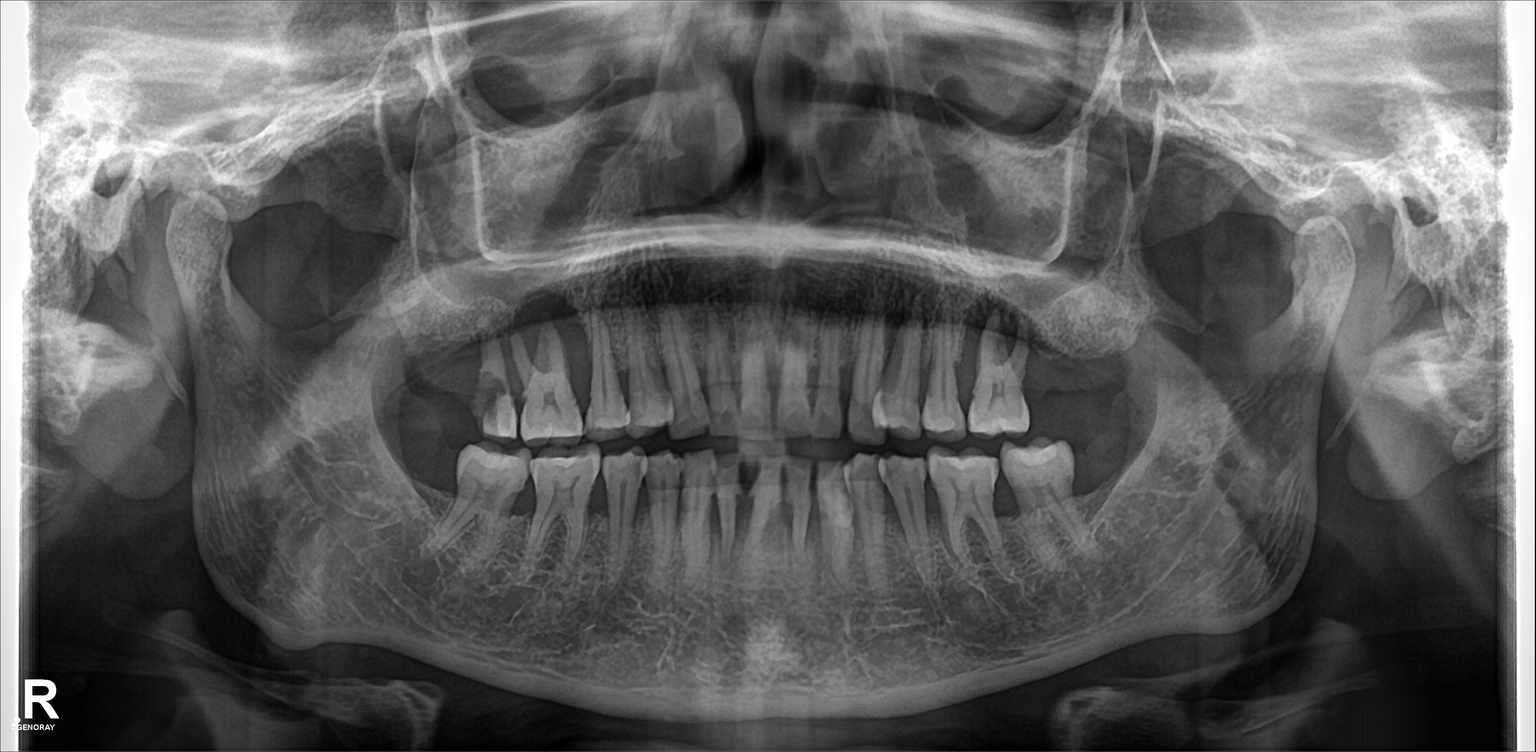Dental Caries: (477, 382, 507, 413)
Missing Tooth: (1080, 441, 1135, 526), (400, 439, 453, 527), (419, 341, 474, 425), (1078, 318, 1120, 420), (1034, 316, 1074, 419)
